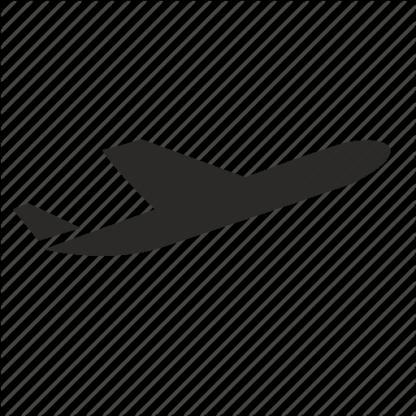CIV_Plane: (7, 134, 402, 278)
